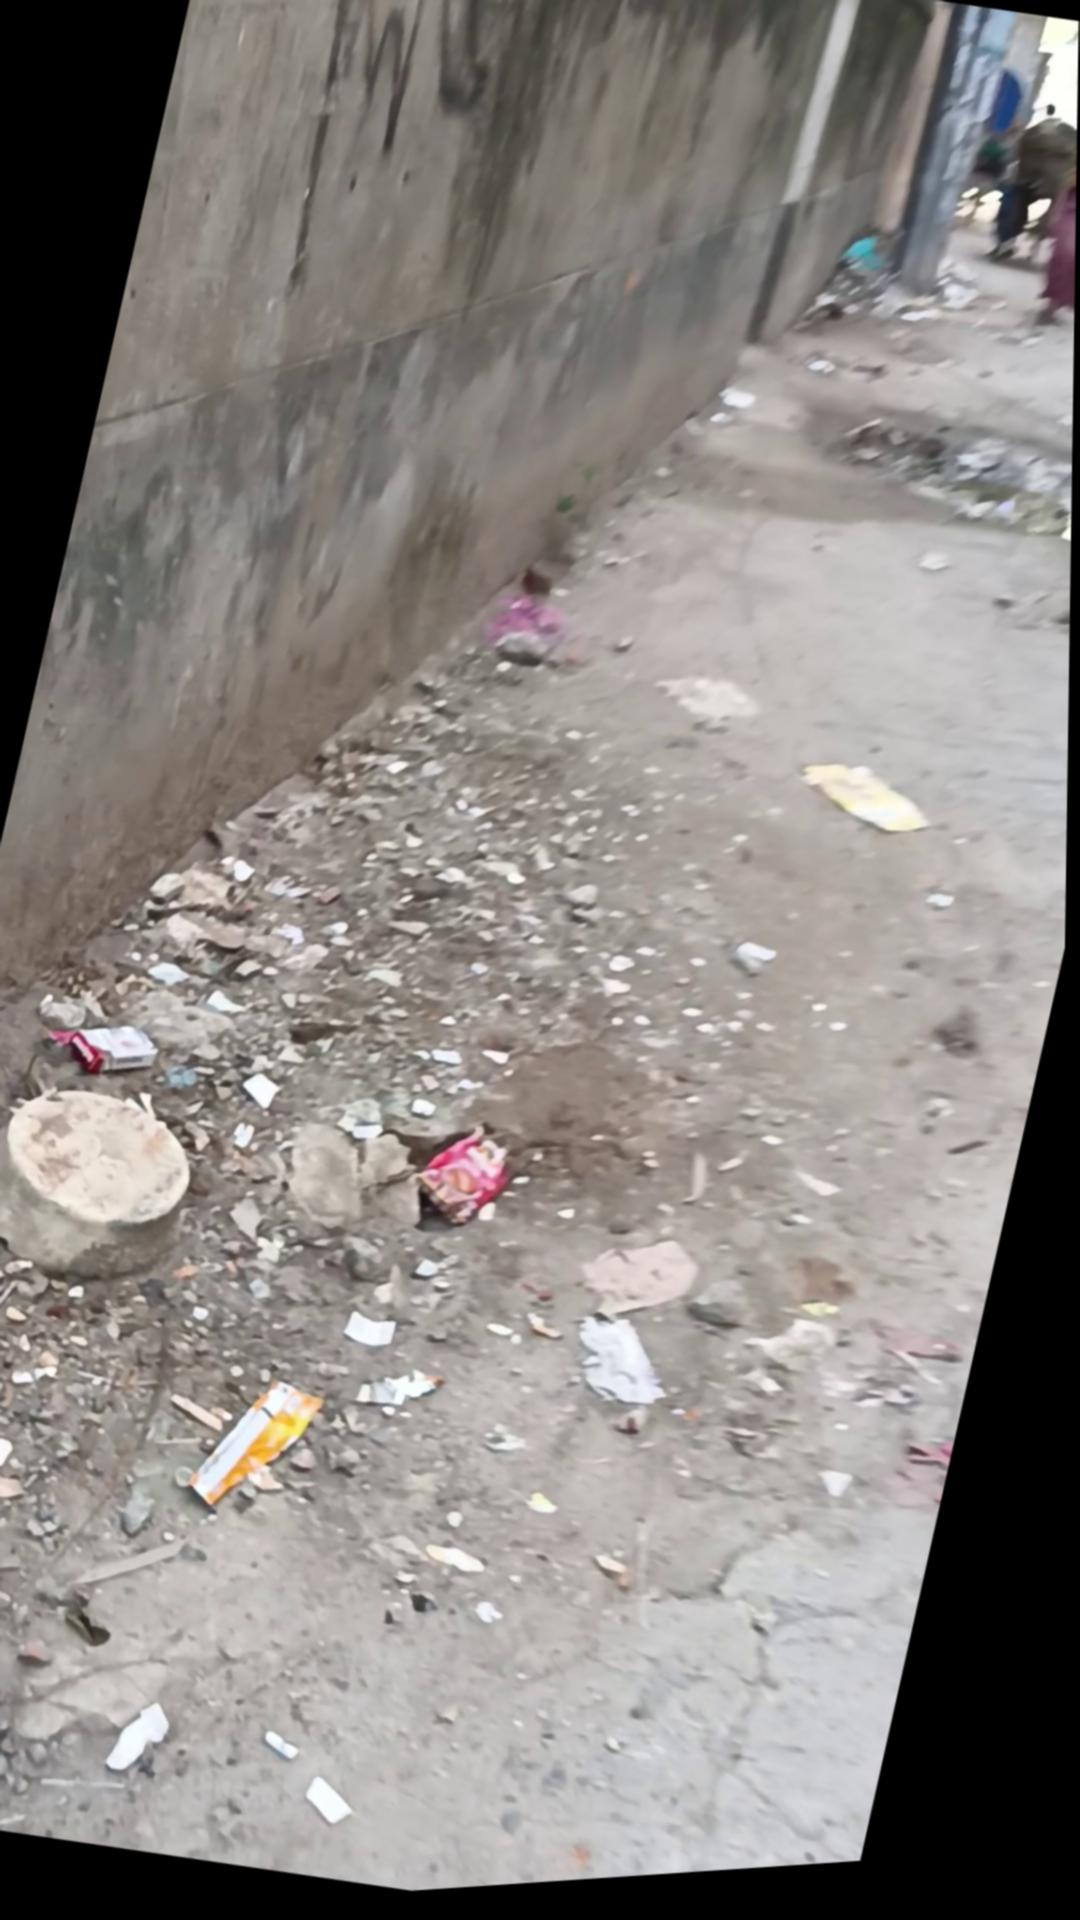Broken-road: (0, 13, 1079, 1920)
Motorcycle: (0, 1062, 211, 1304)
Muddy road: (981, 111, 1063, 281), (1025, 113, 1077, 355)
Tree: (0, 0, 847, 1164)
